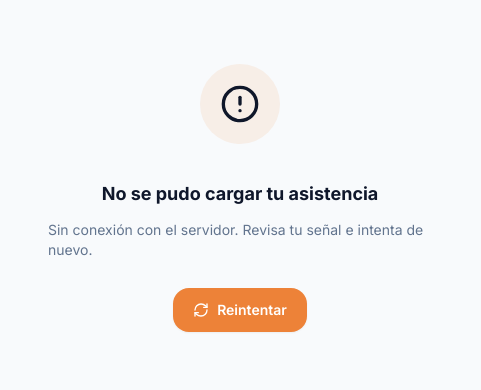
it: MiAsistencia › sin red al cargar: error con Reintentar (no se queda cargando) y se recupera
Expected: the text "Sin conexión con el servidor. Revisa tu señal e intenta de nuevo." is shown, [48, 220, 432, 260]
Click the button "Reintentar": (240, 310) [173, 288, 307, 332]
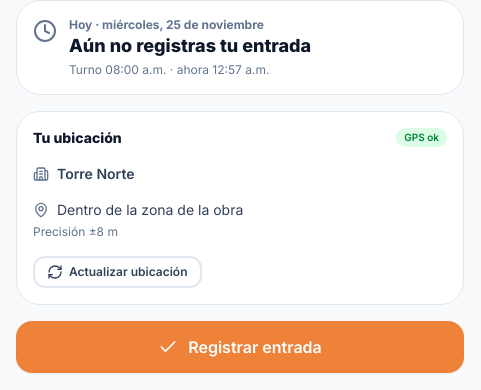
Expected: the button "Registrar entrada" is enabled, [16, 320, 464, 372]
